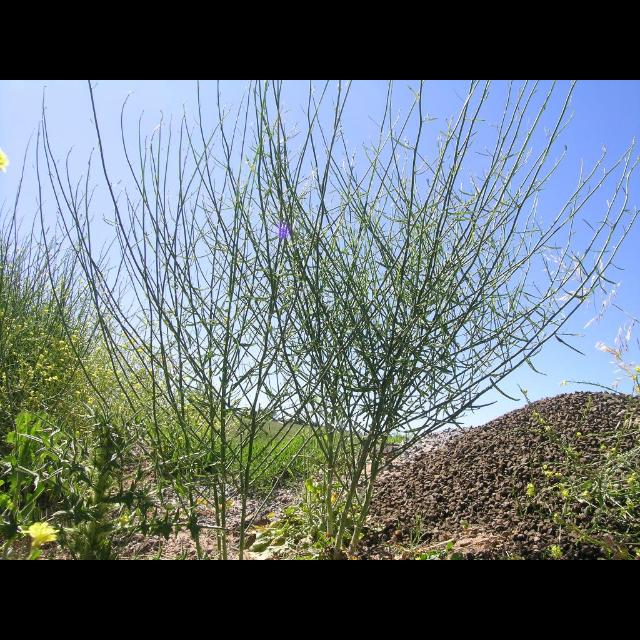Flower: (0, 238, 182, 442), (26, 520, 60, 546), (274, 221, 288, 241), (0, 148, 8, 174), (328, 489, 339, 506), (198, 496, 208, 506), (225, 498, 235, 508)
